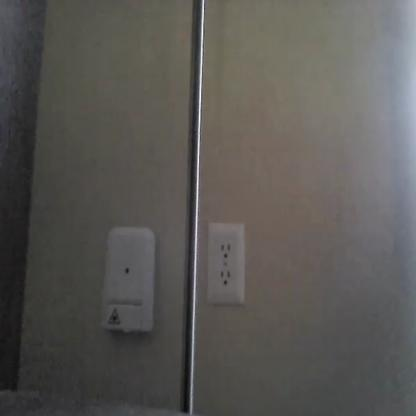OUTLET: (207, 222, 246, 305)
